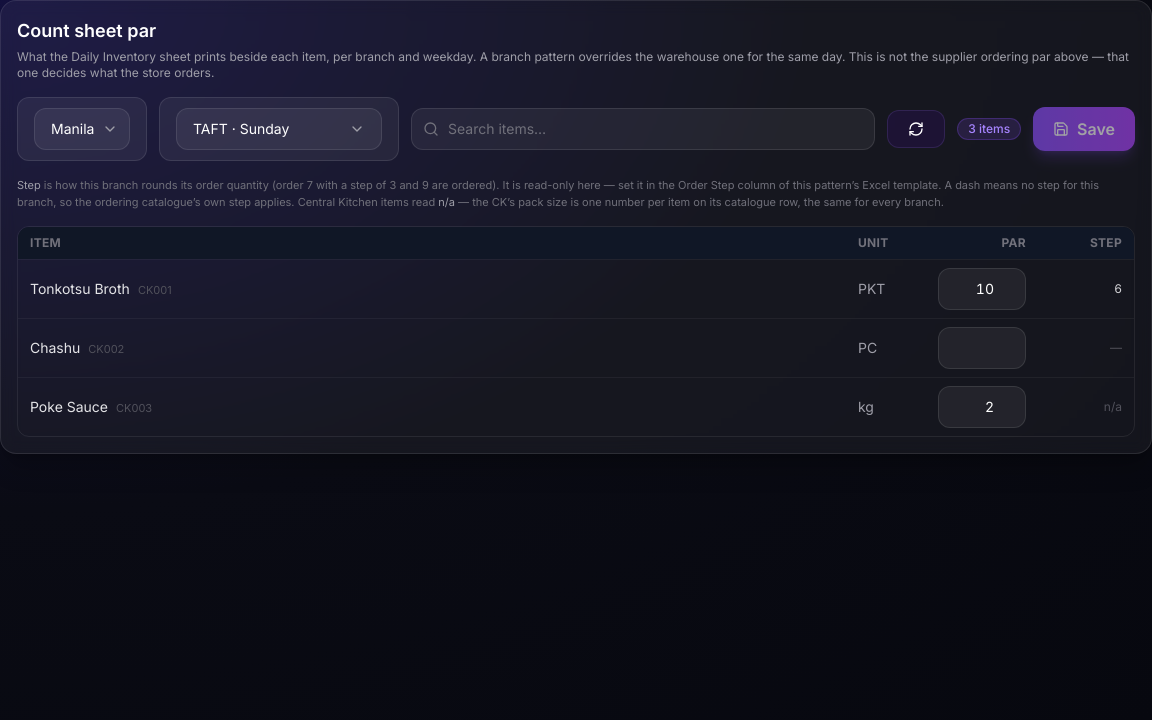
Scenario: count sheet par editor › names the rows the server refused
Expected: the text "Tonkotsu Broth" is shown, x1=30 y1=280 x2=130 y2=297
In the number field named "Par level for Chashu": {"x": 982, "y": 348} x1=938 y1=327 x2=1026 y2=369, type "4"
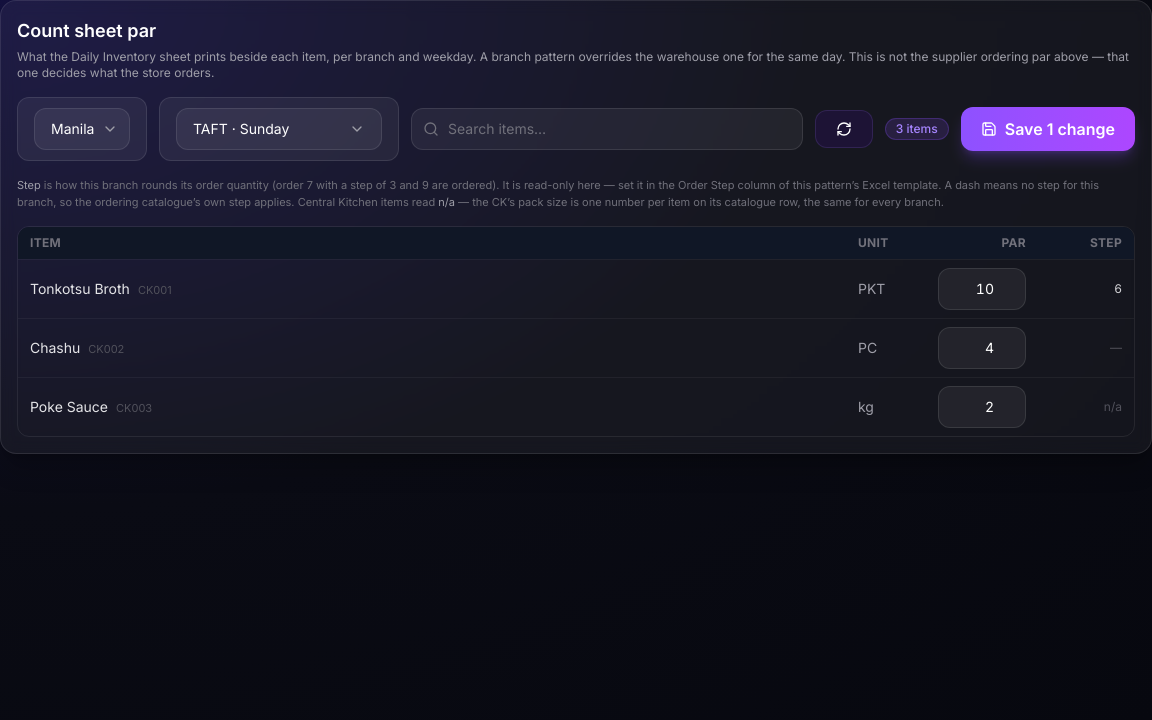
Click the button "Save 1 change": {"x": 1048, "y": 129} x1=961 y1=107 x2=1135 y2=151
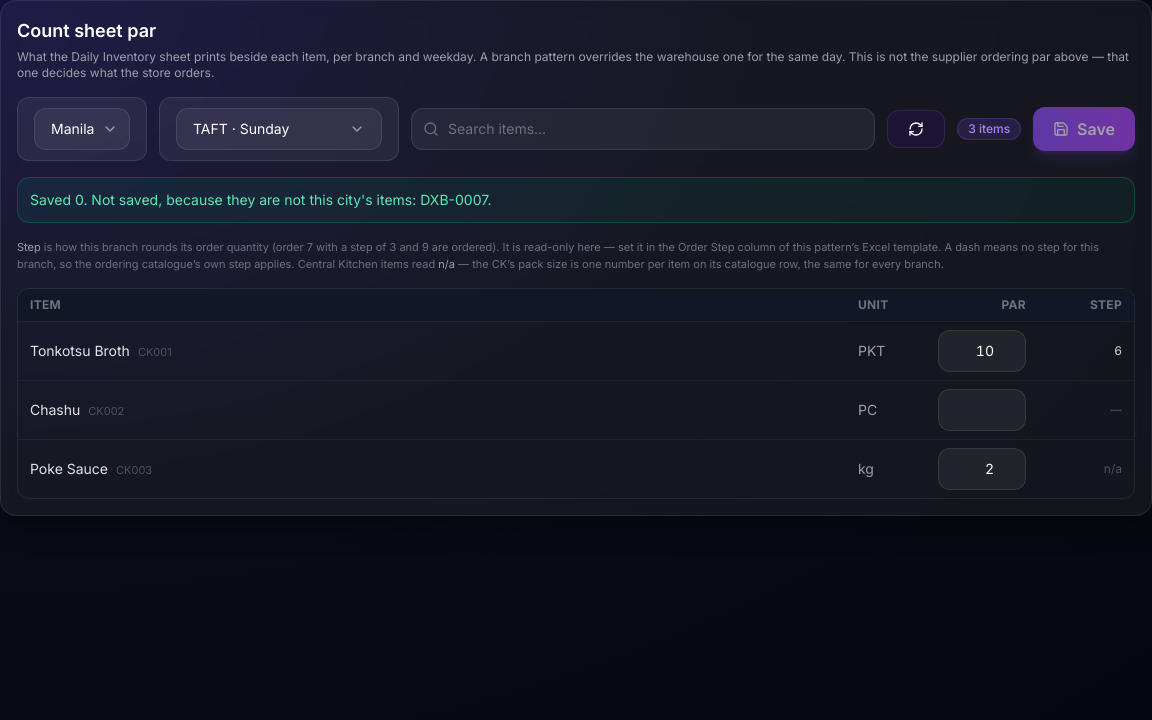
Expected: the text "Saved 0. Not saved, because they are not this city's items: DXB-0007." is shown, x1=17 y1=177 x2=1135 y2=223
